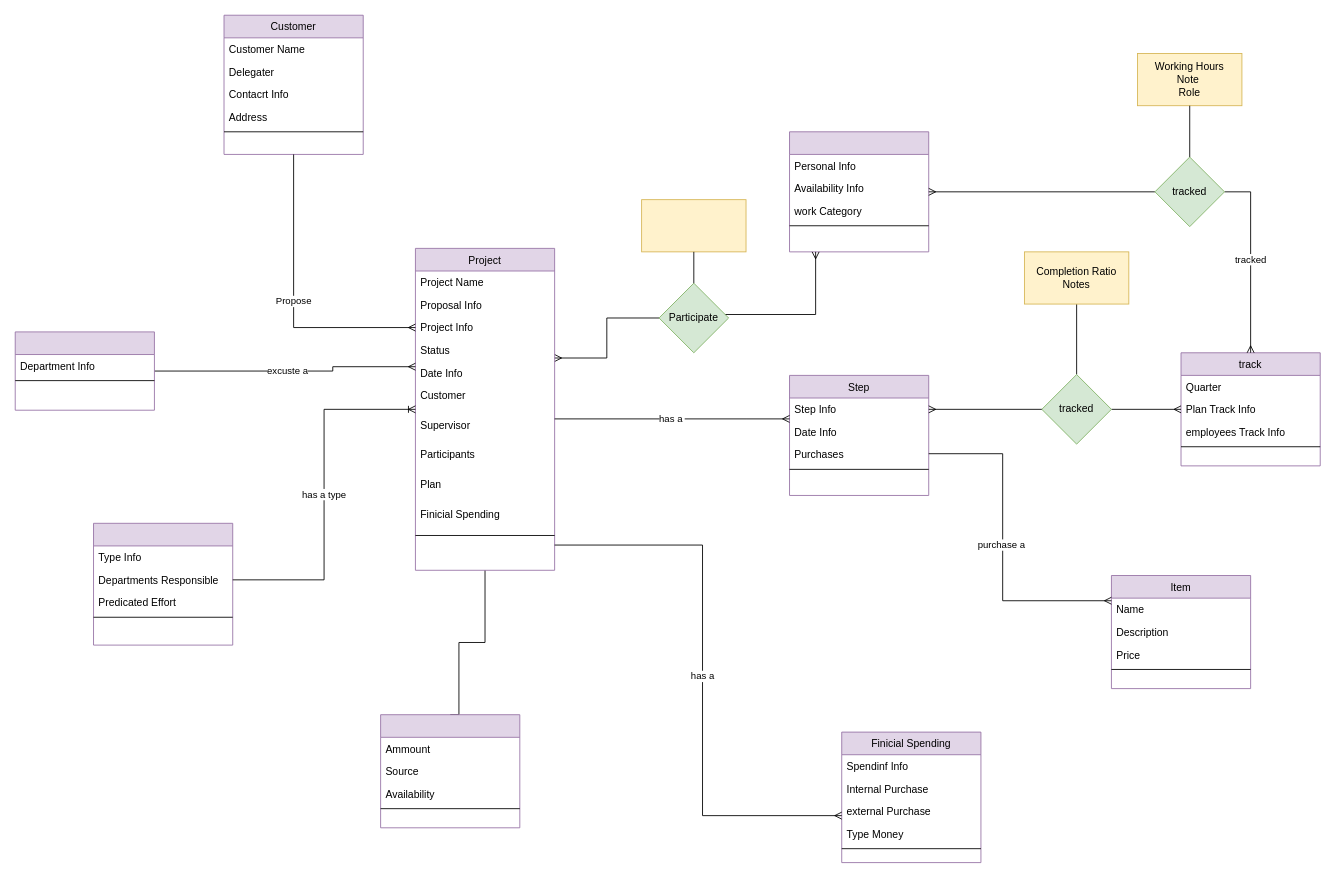
Image size: 1335x878. Some labels were removed from this diagram. Here are the shapes that lost their labels. From the top down, the box of each, then its label:
(789, 131, 929, 252): Employee
(641, 199, 746, 252): Partial Time Ratio
(14, 331, 154, 410): Departments
(93, 522, 233, 645): Project Type
(380, 714, 520, 828): Finicial Funding
